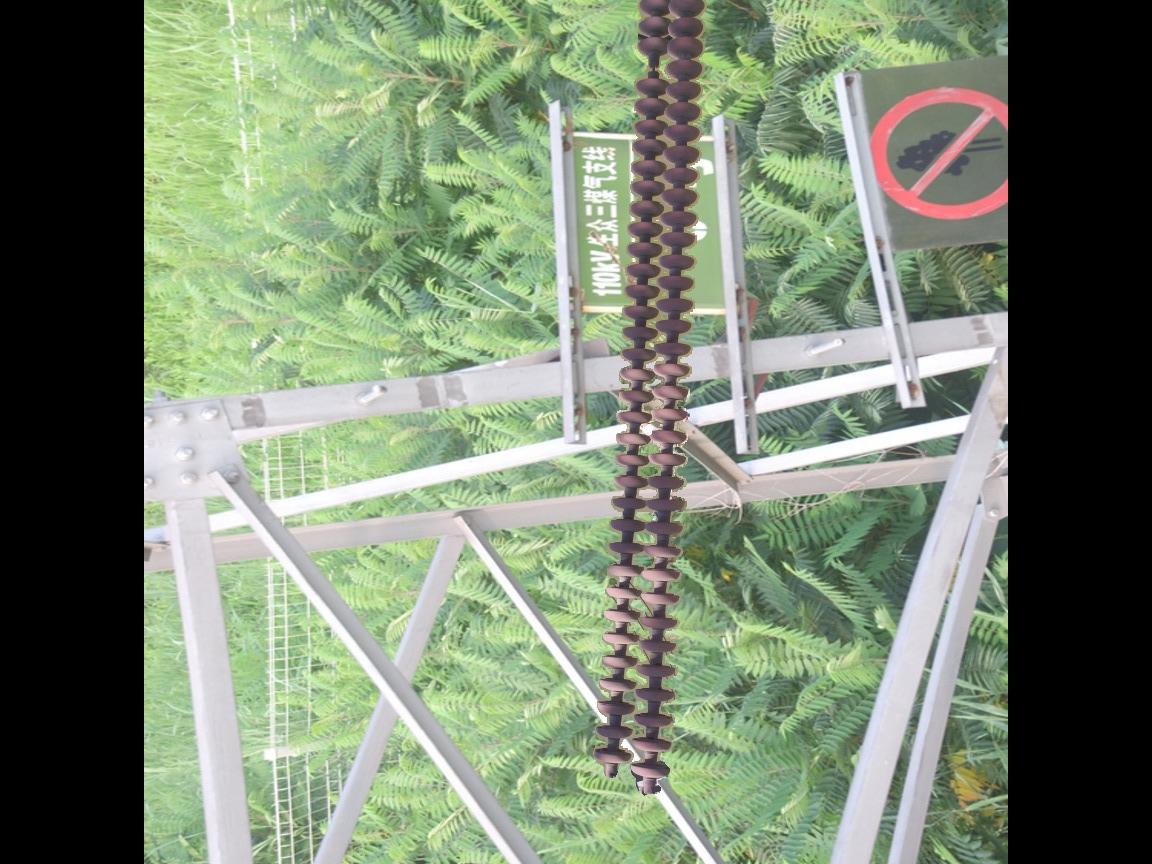insulator: (590, 1, 711, 796)
insulator_stringdrop: (631, 32, 672, 99)
